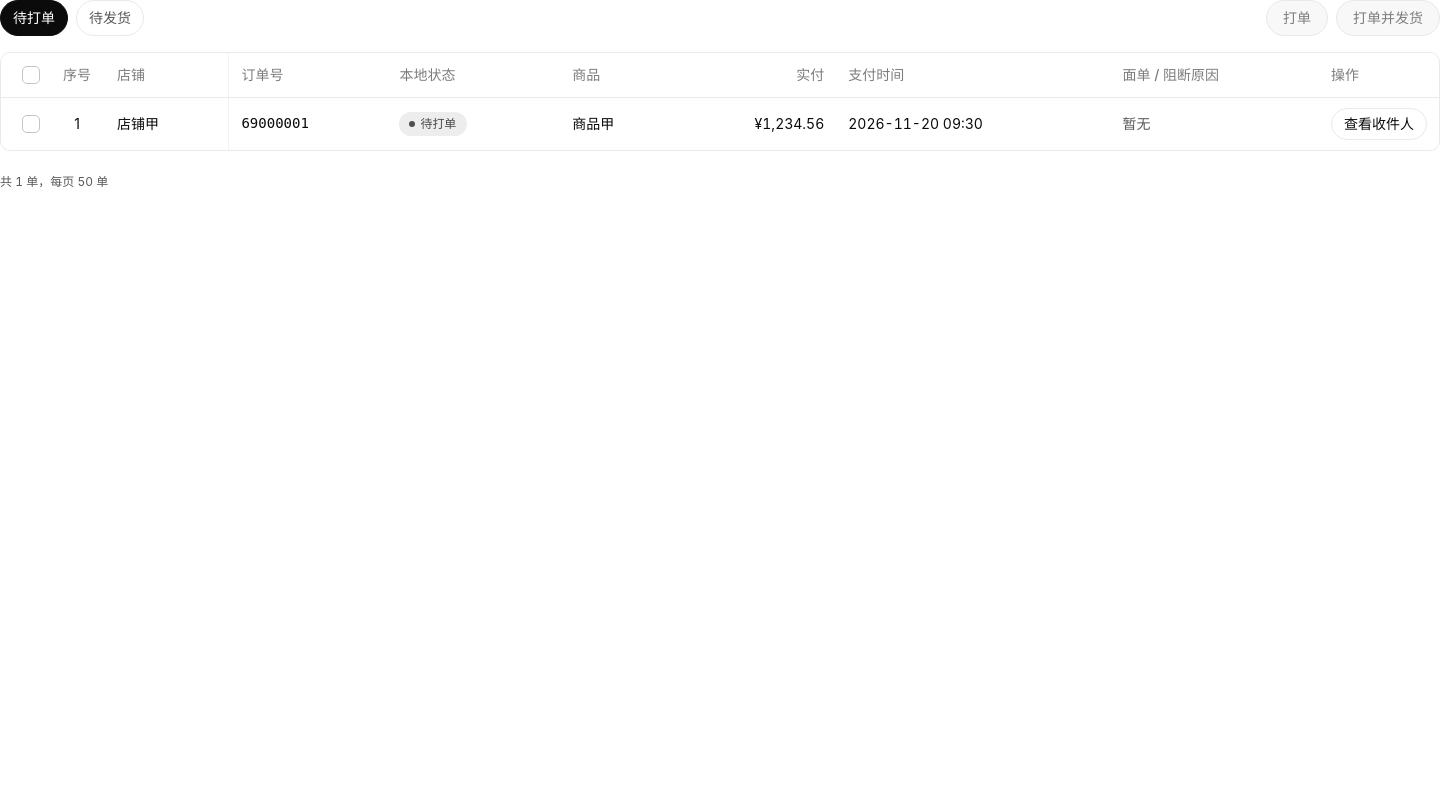
it: 打单发货 › 演练模式：提示只记录请求，确认按钮标注（演练）且仍可提交
This screenshot has width=1440, height=810.
Step 1. Click the checkbox named "选择订单 69000001" → (31, 124), box 13,106 -> 49,142
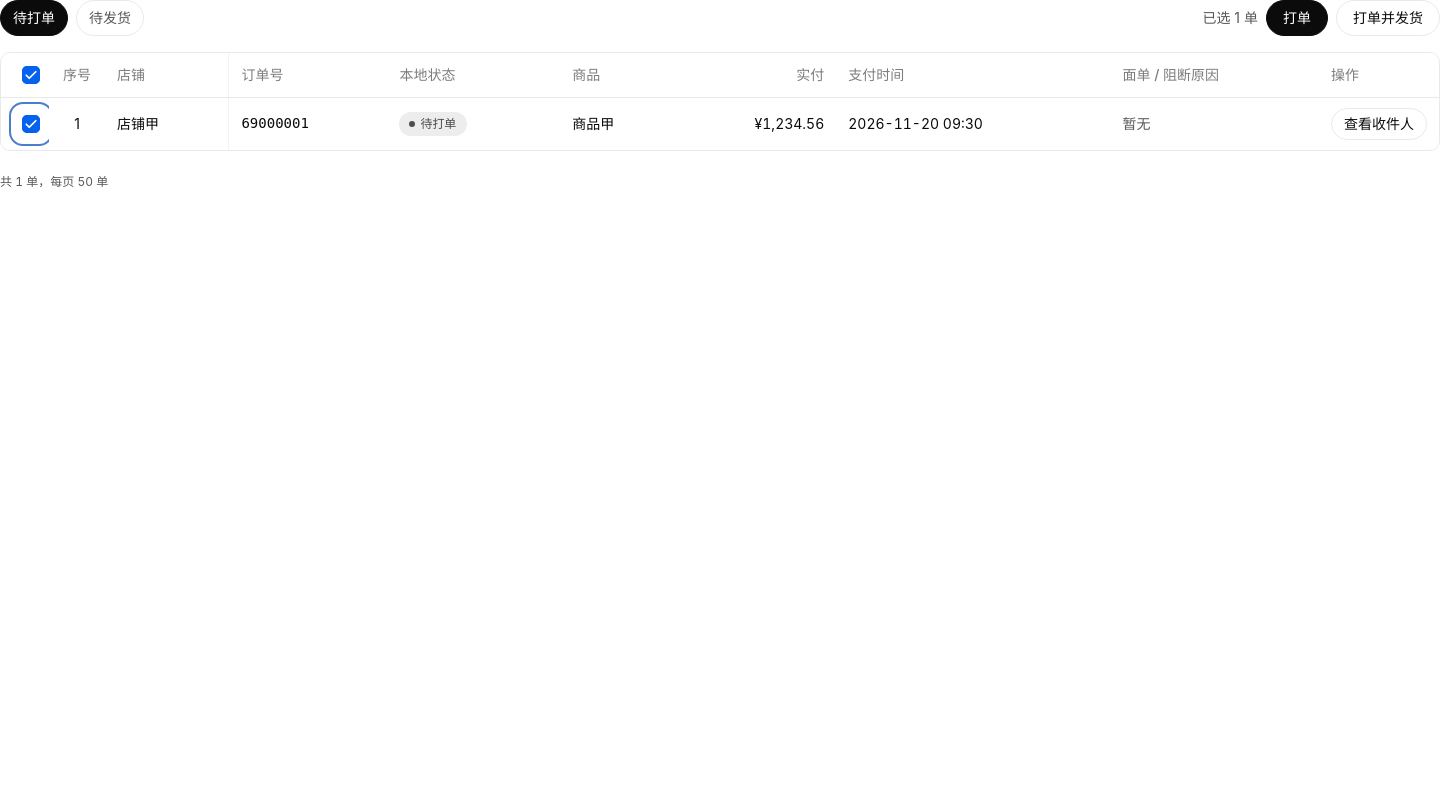
Step 2. Click the button "打单" → (1297, 18), box 1266,0 -> 1328,36
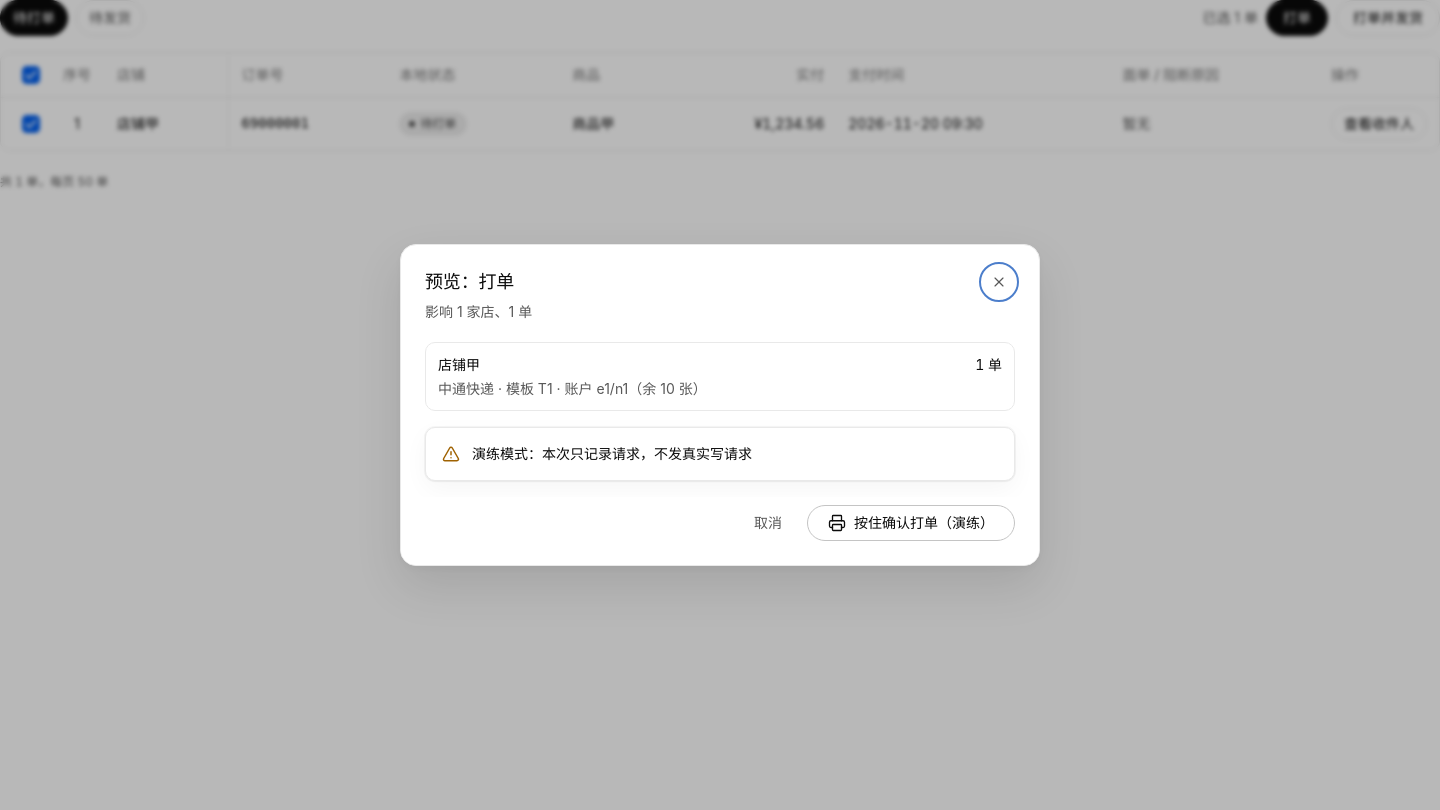
Expected: the text "演练模式：本次只记录请求，不发真实写请求" is shown, 472,445 -> 752,462
Expected: the button "按住确认打单（演练） 按住确认打单（演练）" is enabled, 807,505 -> 1015,541
